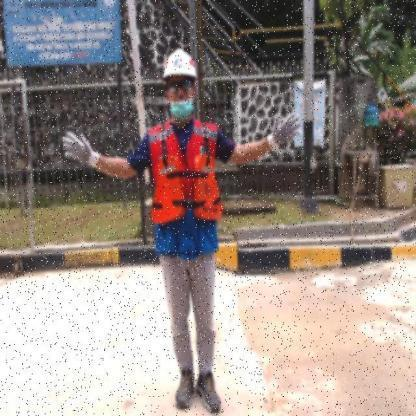boots: (196, 370, 221, 414), (175, 368, 195, 410)
gloves: (62, 128, 100, 170), (266, 110, 301, 154)
goggles: (166, 78, 194, 90)
helmet: (162, 48, 197, 80)
mask: (170, 100, 194, 121)
vest: (148, 154, 223, 226)
